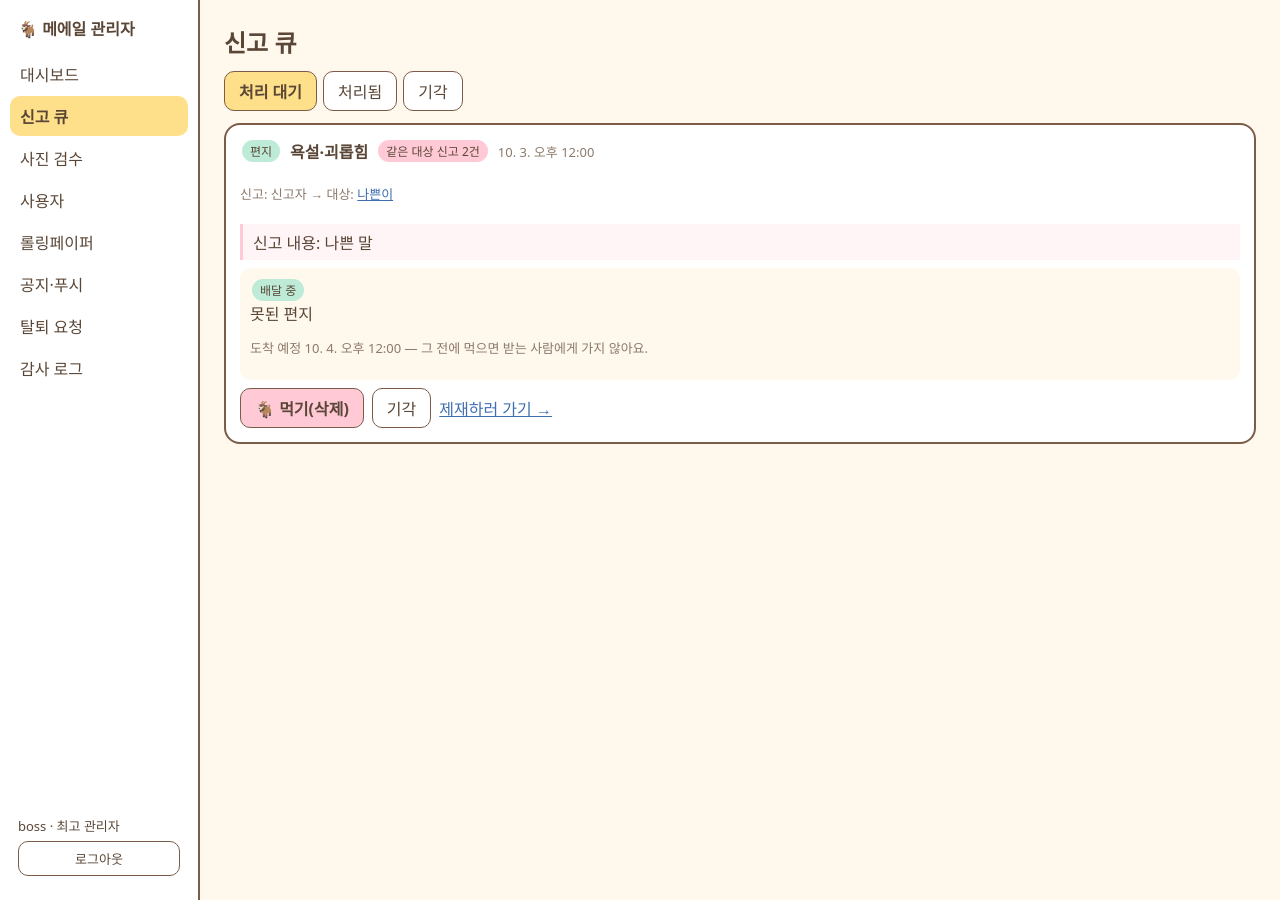
Test: 관리자 웹 › 신고 큐: 편지를 먹으면 목록이 새로 고쳐진다
This screenshot has width=1280, height=900.
Expected: the text "못된 편지" is shown, [250,303,313,325]
Expected: the text "같은 대상 신고 2건" is shown, [378,140,488,162]
Click the button "🐐 먹기(삭제)" at {"x": 302, "y": 408}, box [240,388,364,428]
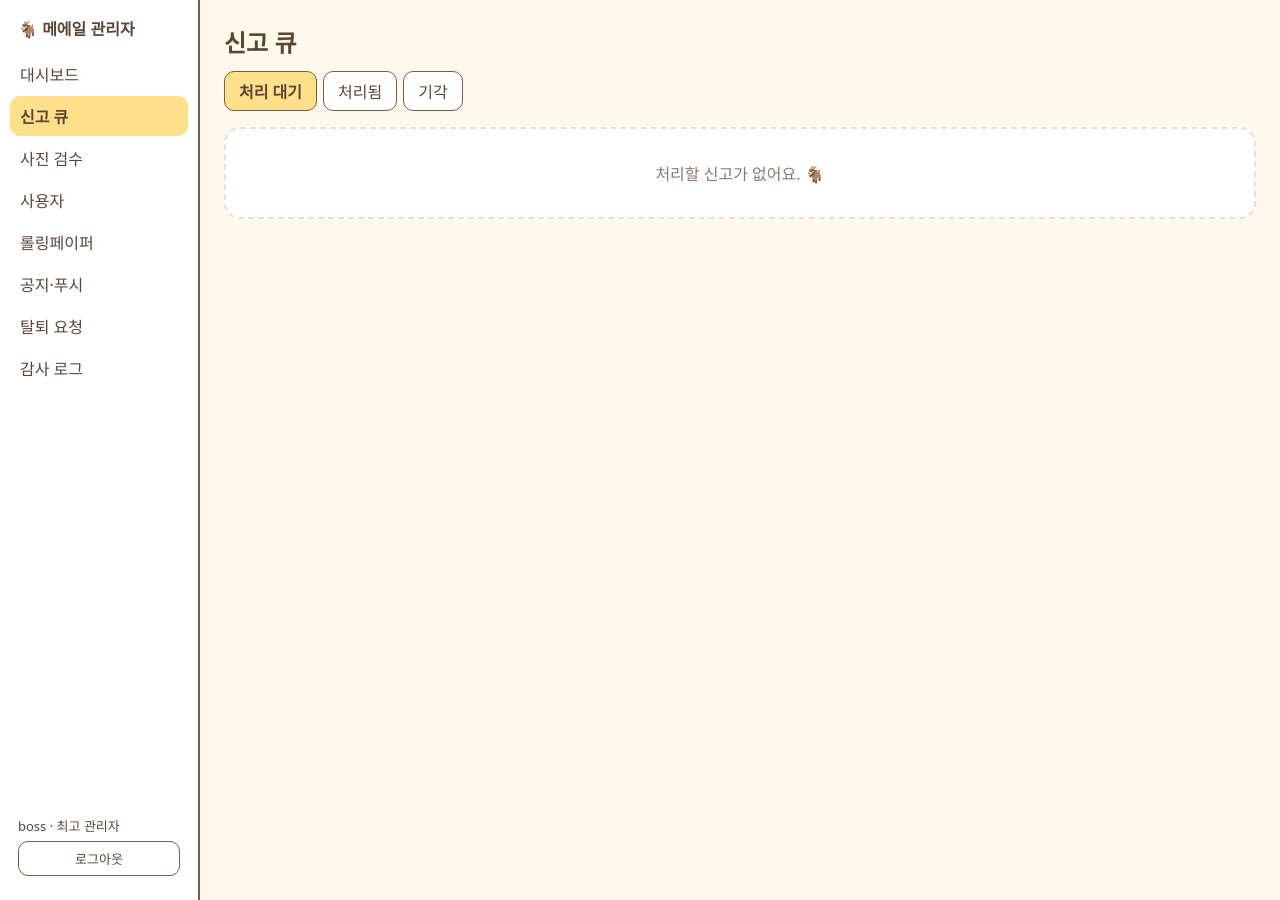
Result: the text "처리할 신고가 없어요. 🐐" is shown at [224,127,1256,219]
